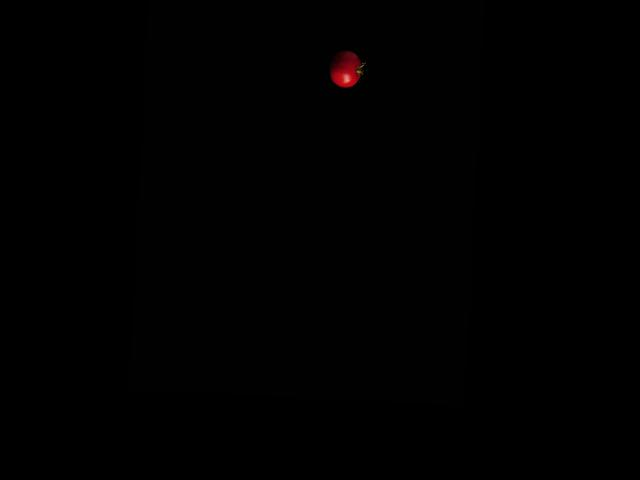tomato: (329, 50, 362, 87)
